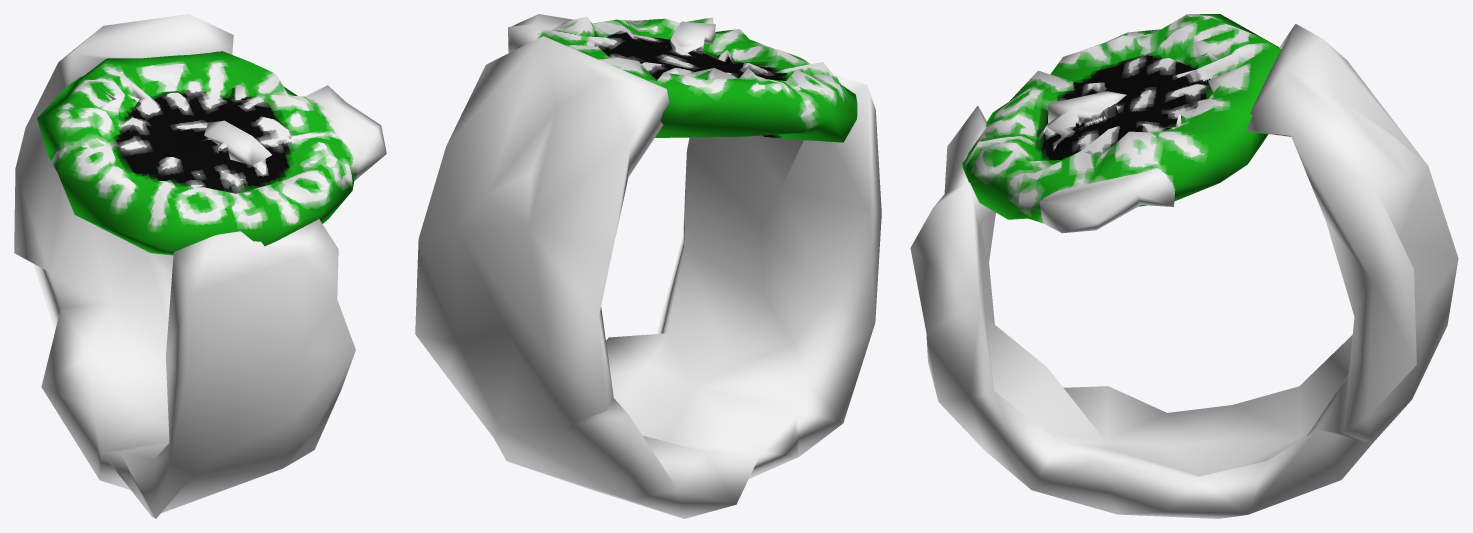
File: sub lantern (green).glb
The picture shows the model from 3 angles, left to right: view 1: azimuth 30°, elevation 25°; view 2: azimuth 150°, elevation 25°; view 3: azimuth 270°, elevation 25°; orthographic projection. The views are drawn at different scales.
Visible parts, largest first — view 1: watch_sub_lantern_green.002; view 2: watch_sub_lantern_green.002; view 3: watch_sub_lantern_green.002.
Part boxes in pixels (x1,y1,x2,y2): watch_sub_lantern_green.002: (14, 14, 386, 518); watch_sub_lantern_green.002: (415, 14, 881, 518); watch_sub_lantern_green.002: (910, 14, 1458, 518).
Size of the model in its own units: 0.0375 by 0.0491 by 0.0512.
Materials: 2 (2 with a texture image).
